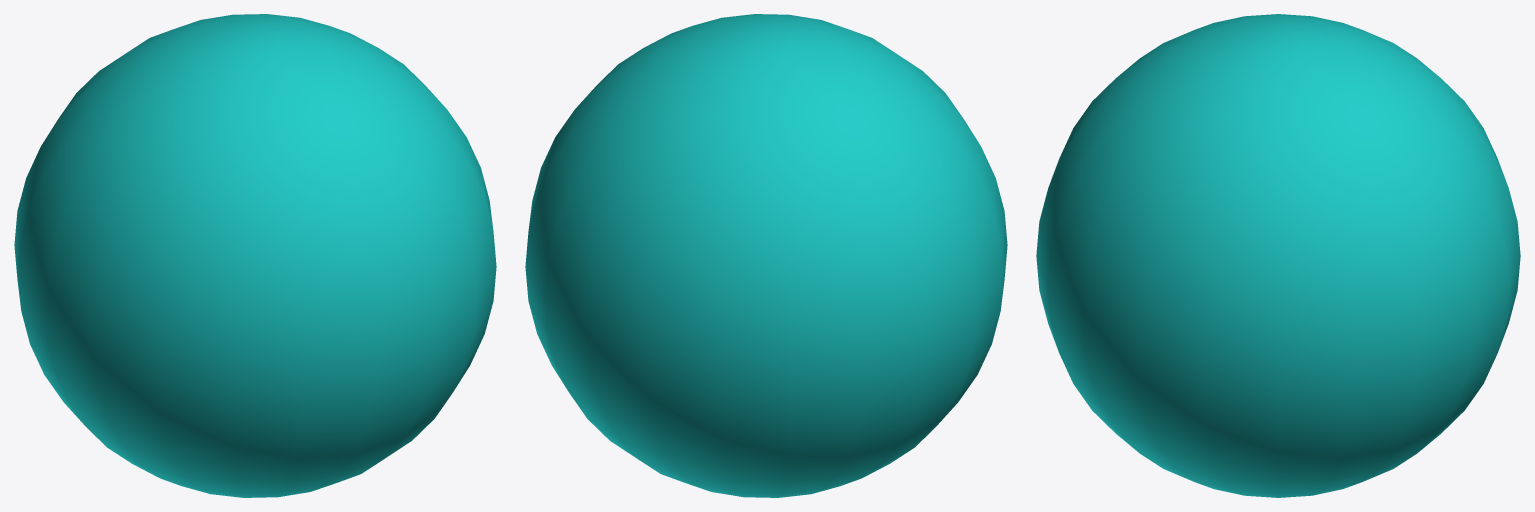
File: Impact.fbx
3 views of the same model, side by side, from view 1: azimuth 30°, elevation 25°; view 2: azimuth 150°, elevation 25°; view 3: azimuth 270°, elevation 25° (orthographic).
Parts seen in each view (by area): view 1: pSphere1; view 2: pSphere1; view 3: pSphere1.
Part boxes in pixels (left/top/right/bottom): pSphere1: left=14, top=14, right=496, bottom=497; pSphere1: left=525, top=14, right=1007, bottom=497; pSphere1: left=1036, top=14, right=1520, bottom=497.
Bounding box in the file's own units: 2 × 2 × 2.
